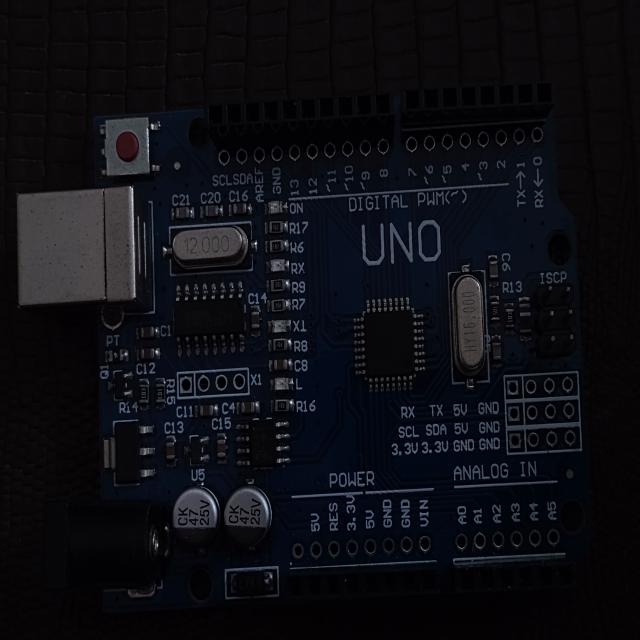arduino: (4, 74, 604, 616)
